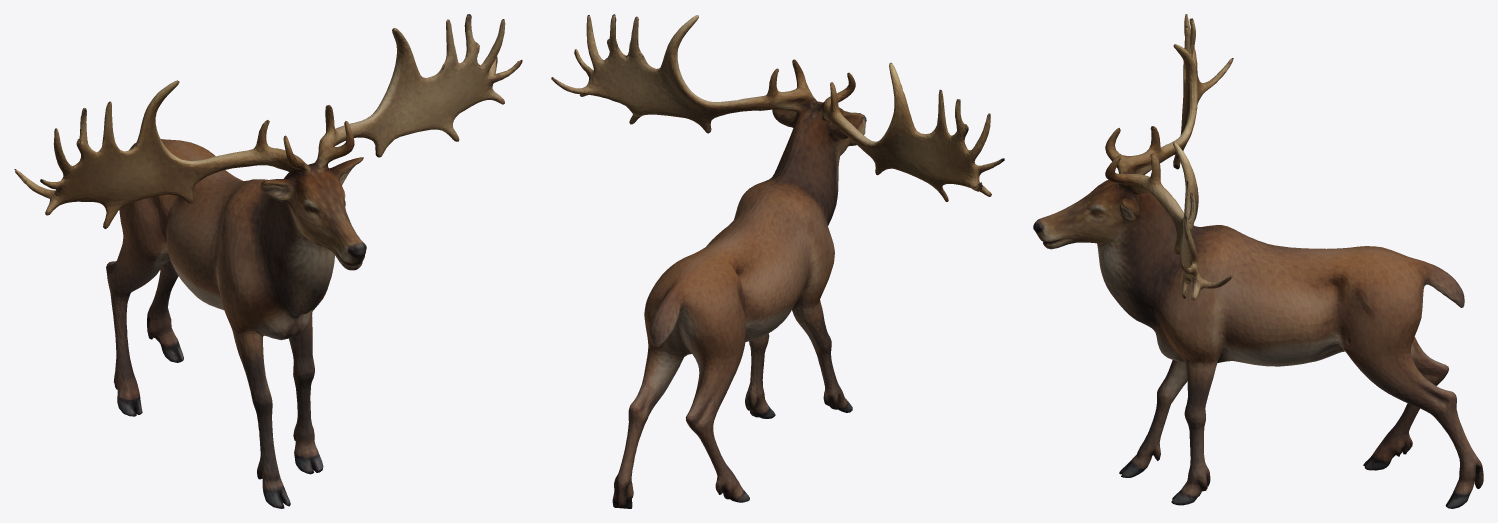
3 renders of one model, left to right at view 1: azimuth 30°, elevation 25°; view 2: azimuth 150°, elevation 25°; view 3: azimuth 270°, elevation 25°, orthographic. The views are drawn at different scales.
Parts seen in each view (by area): view 1: world; view 2: world; view 3: world.
Part boxes in pixels (left/top/right/bottom): world: left=14, top=14, right=522, bottom=508; world: left=551, top=14, right=1004, bottom=508; world: left=1033, top=14, right=1483, bottom=508.
Bounding box in the file's own units: 1 × 0.8447 × 0.8722.
1 material, 1 textured.
